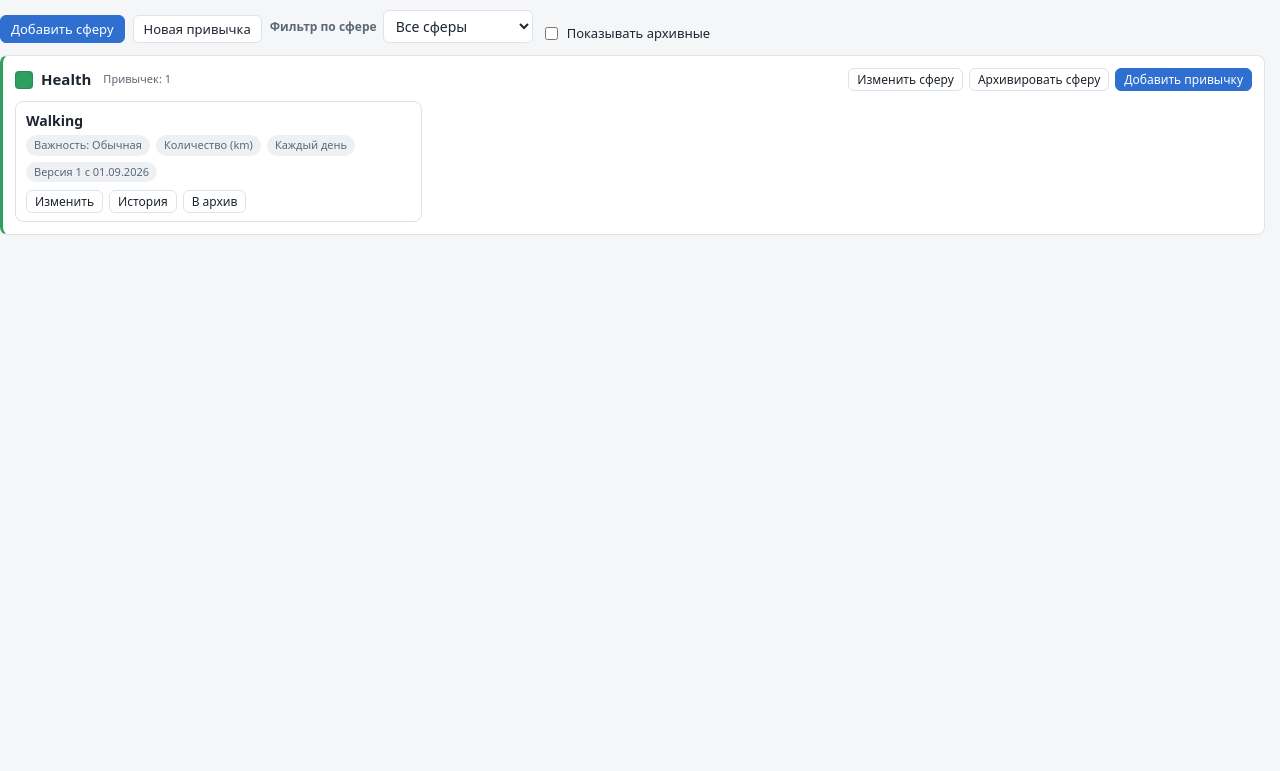
Test: HabitsPage › shows server field validation in Russian and preserves the draft
The image size is (1280, 771).
Click the button "Изменить" at {"x": 64, "y": 202}, box [26,190,103,213]
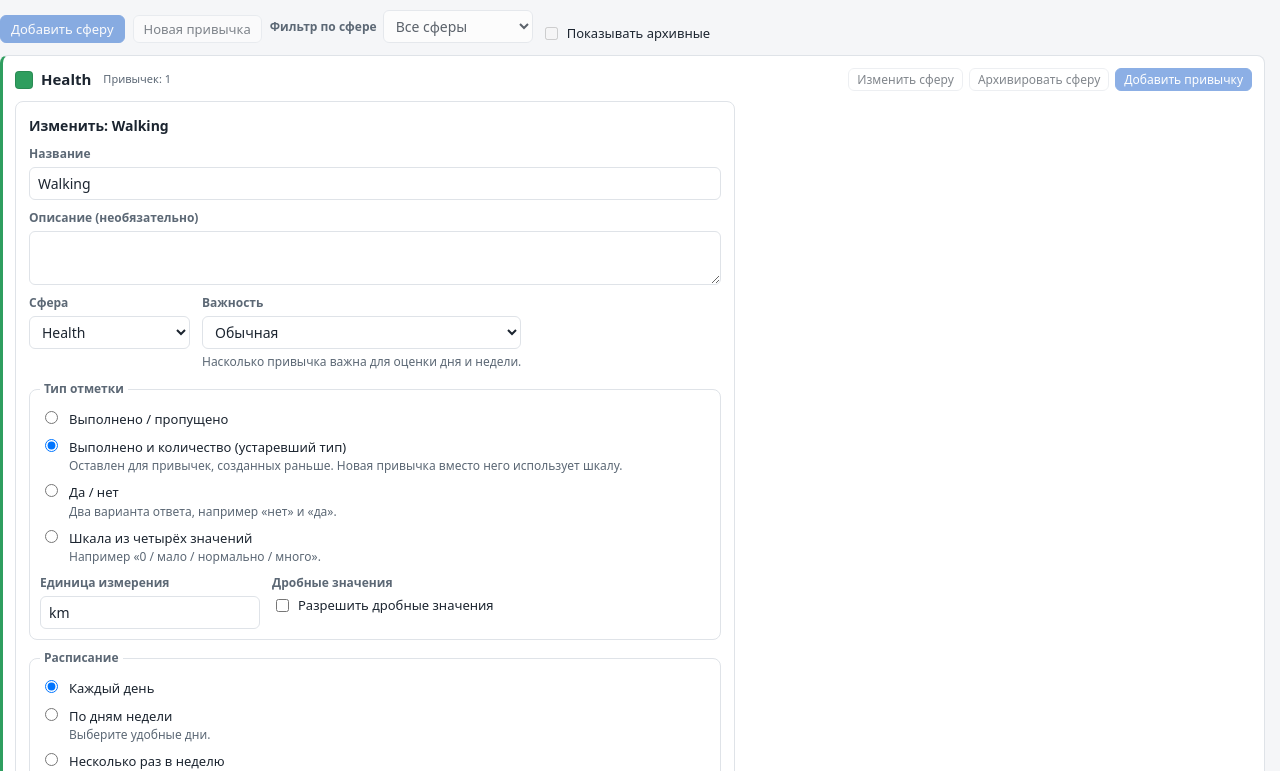
Result: the field labelled "Название" is shown
Replace the text in the field labelled "Название" with "Чтение" at {"x": 375, "y": 184}, box [29,167,721,200]
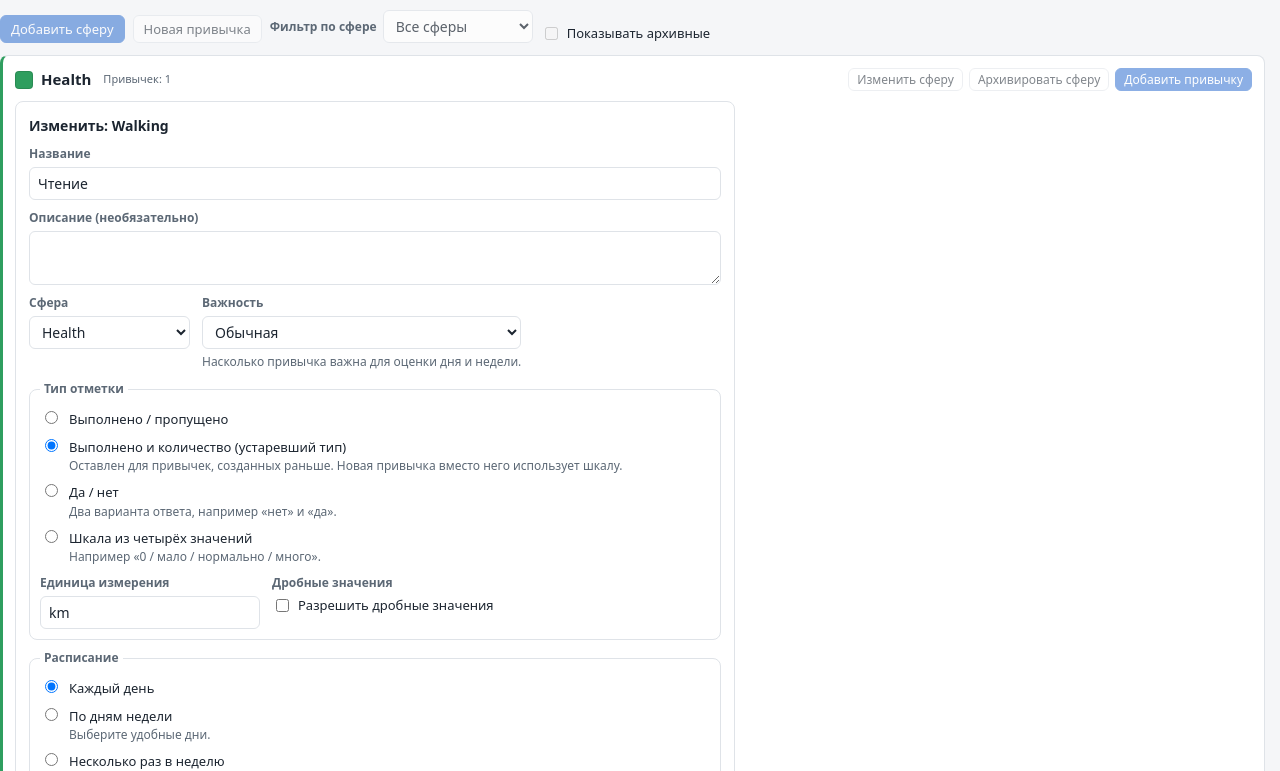
Replace the text in the field labelled "Единица измерения" with "страницы" at {"x": 150, "y": 612}, box [40,596,260,629]
(page scrolled)
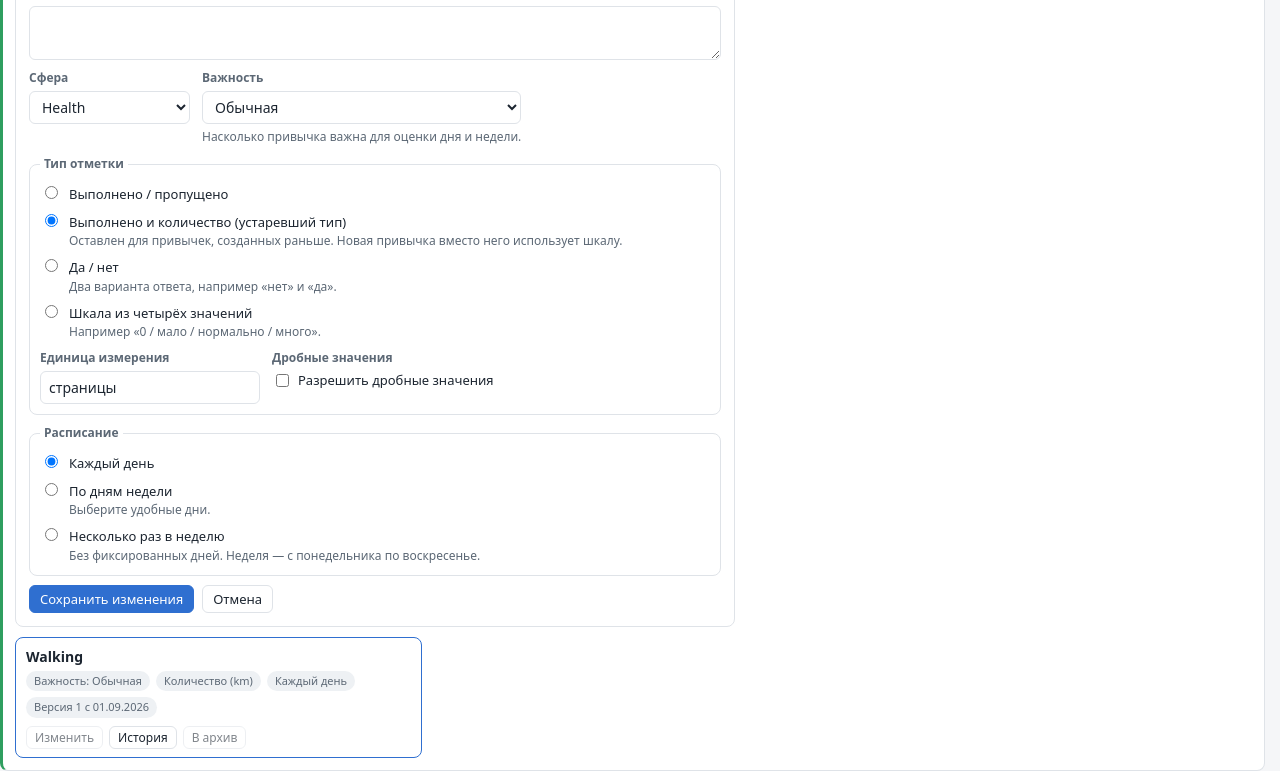
Click the button "Сохранить изменения" at {"x": 112, "y": 599}, box [29,584,194,613]
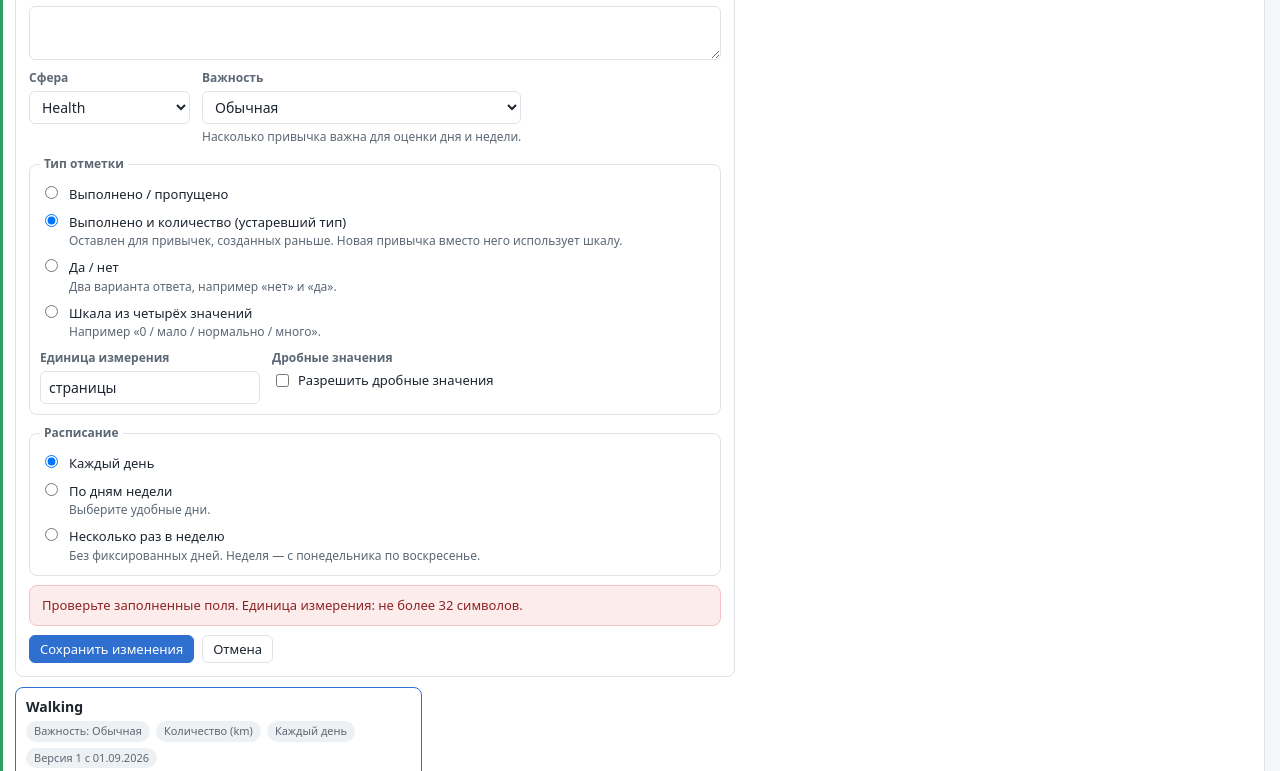
Result: the message reads "Проверьте заполненные поля. Единица измерения: не более 32 символов." at [42,596,523,614]
